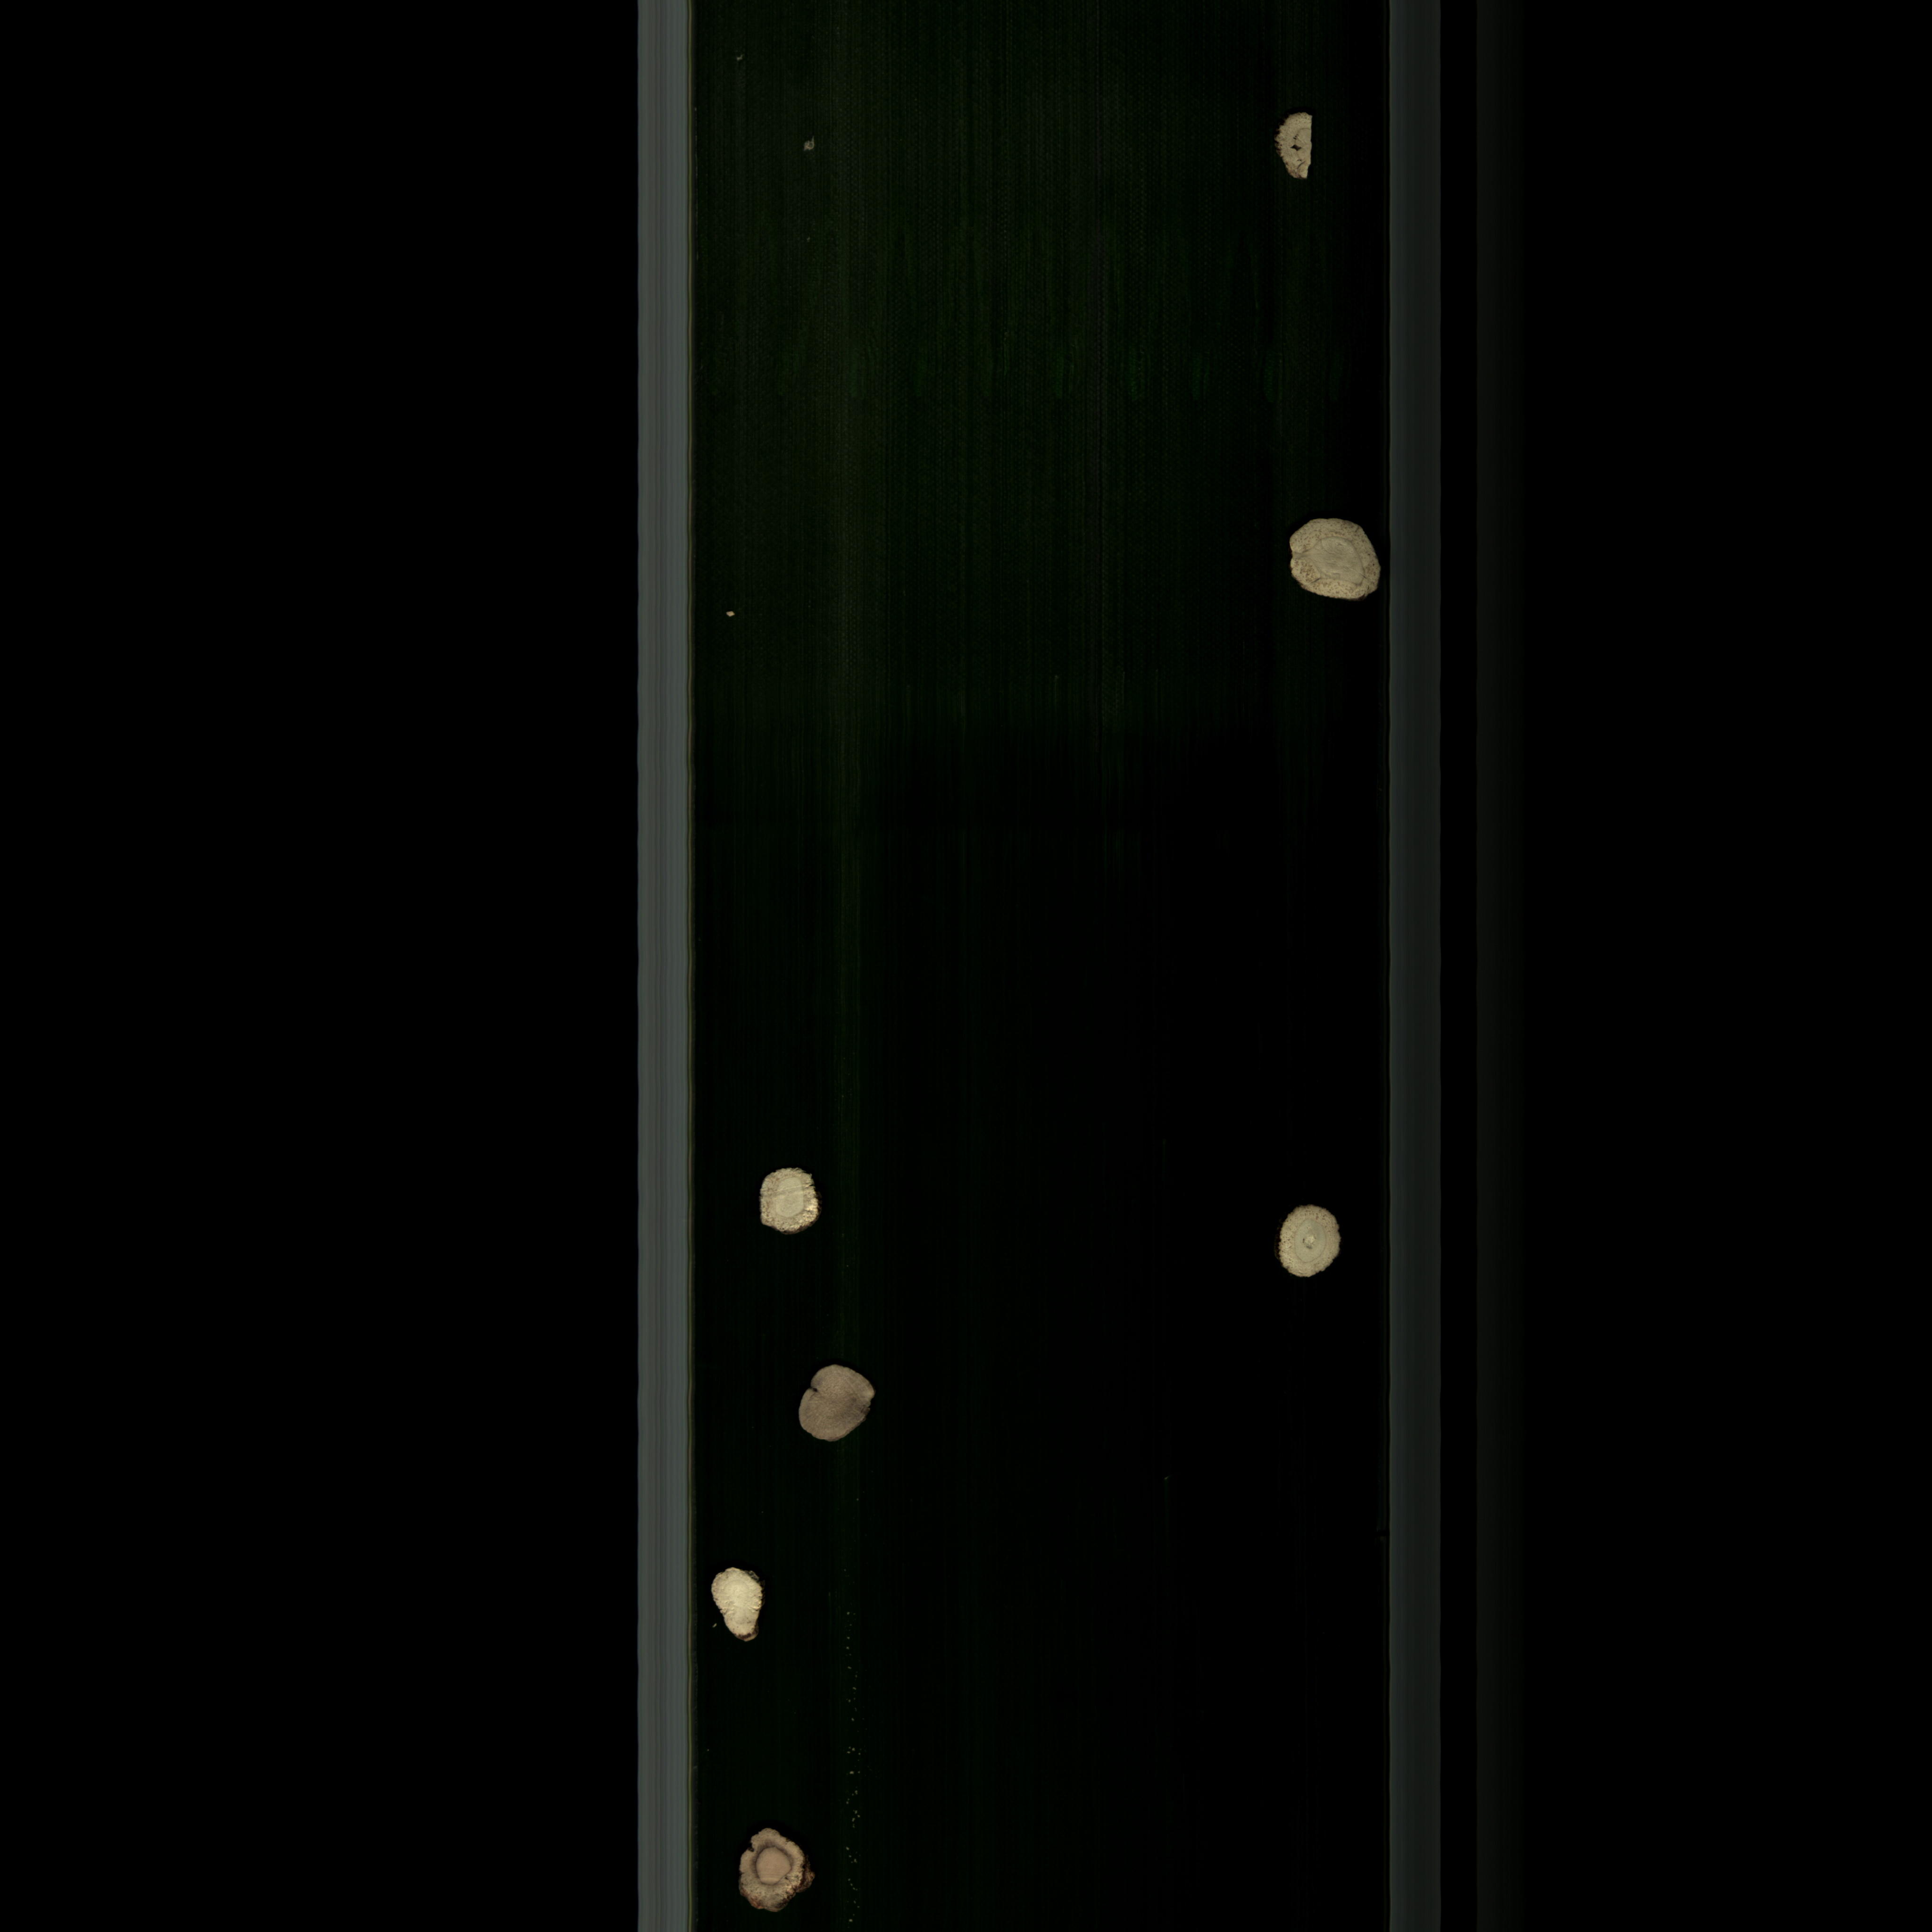debris: (701, 1568, 775, 1652), (1276, 108, 1325, 188)
dreg: (715, 602, 750, 626), (800, 134, 828, 154)
moldy: (786, 1361, 886, 1451), (732, 1822, 816, 1920)
